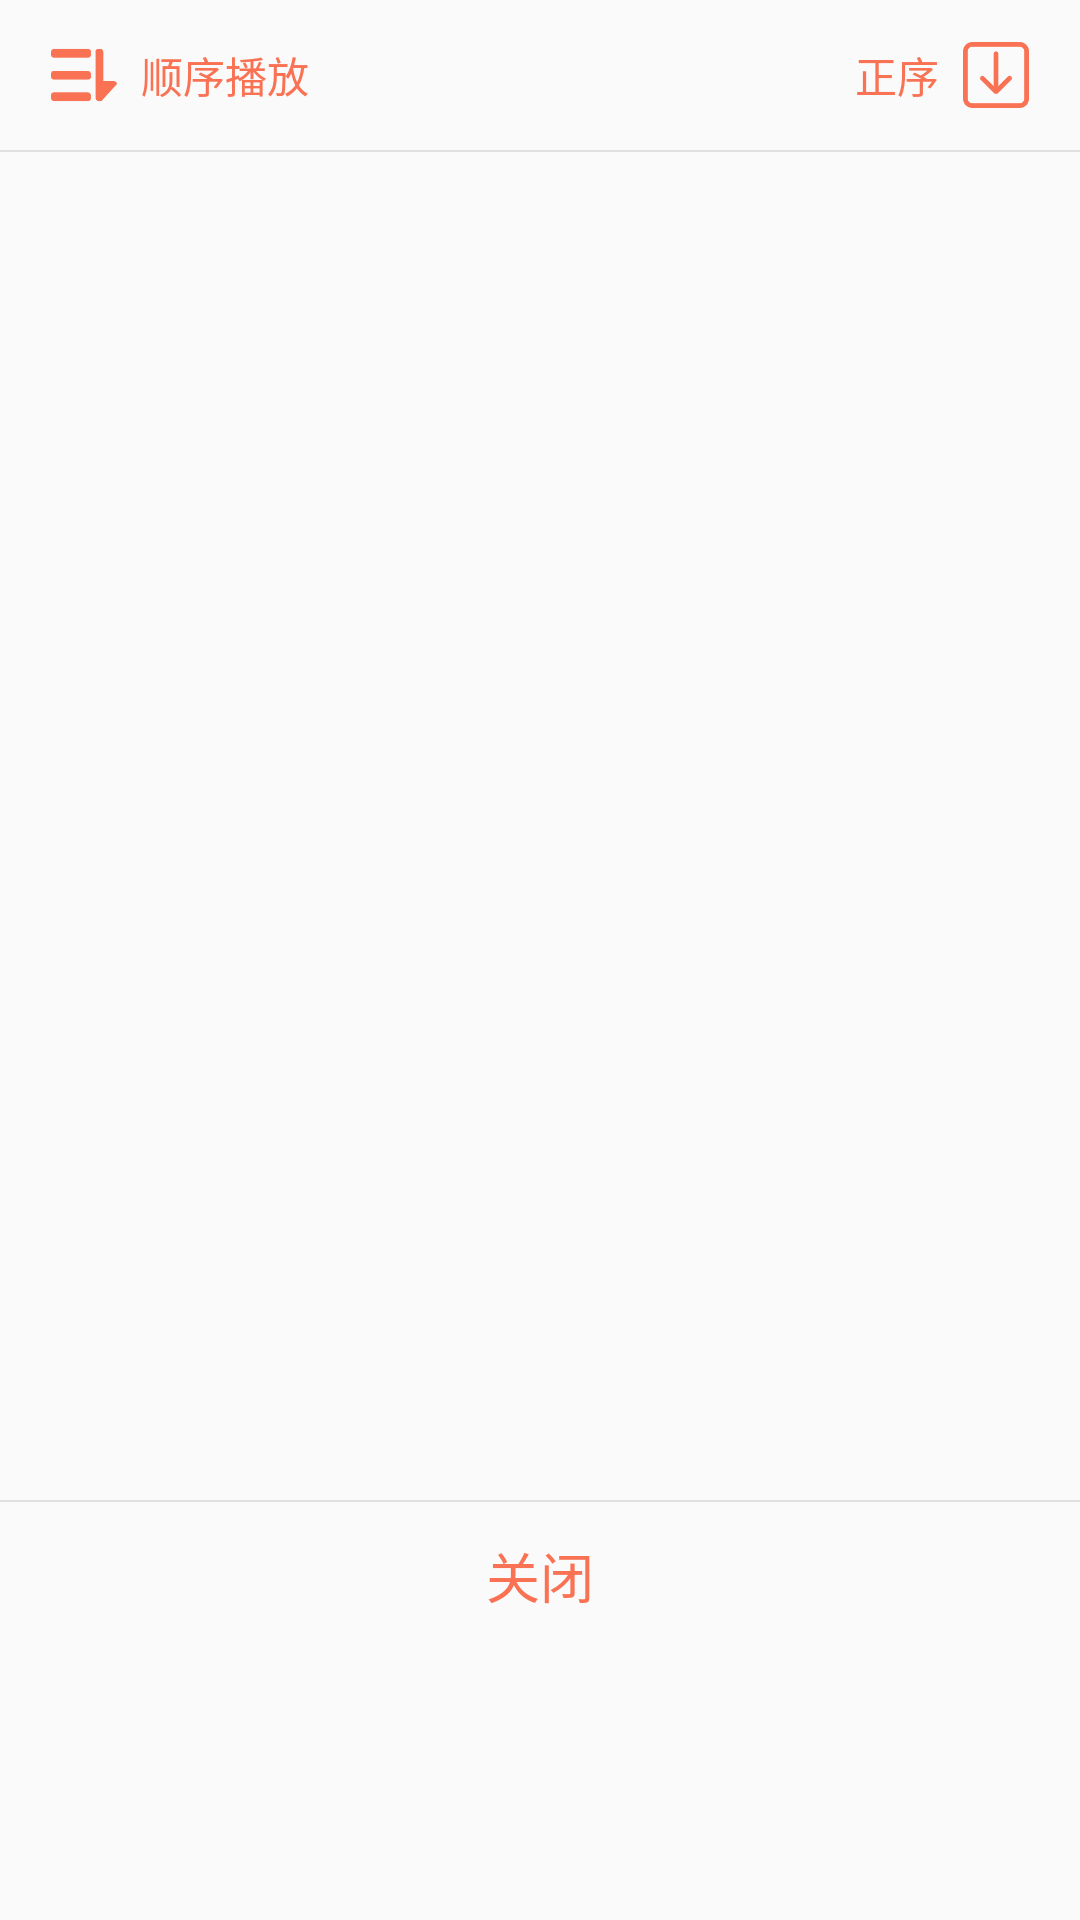

Screen size 1080 × 1920. Icon name, then its box in pixels as (left=x1, top=y1, right=x2, bottom=y2):
player playlist: (left=51, top=49, right=117, bottom=101)
